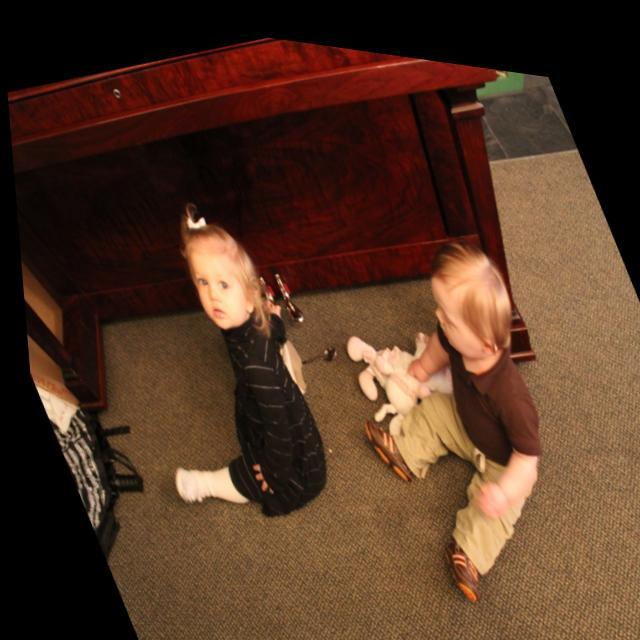Nonhelmet: (175, 201, 274, 337), (425, 226, 517, 372)
